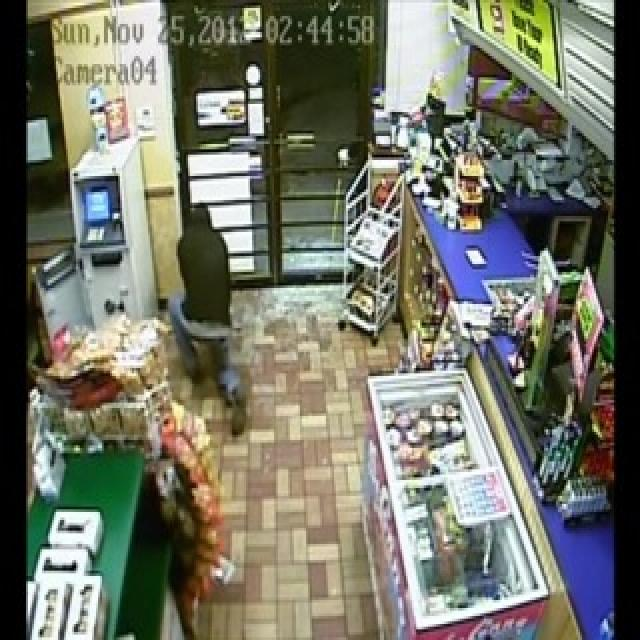thief: (147, 197, 250, 403)
